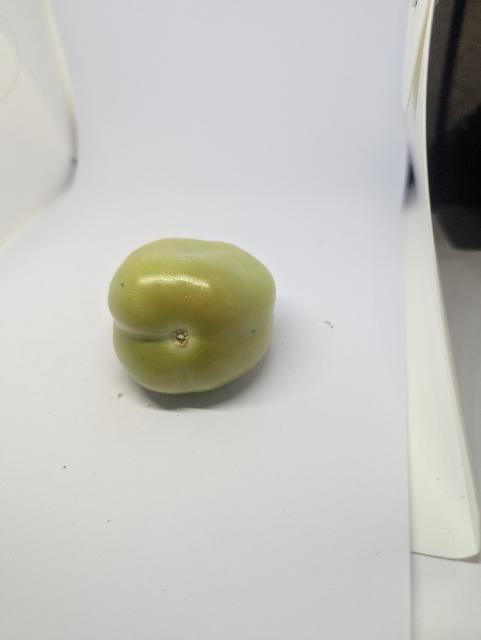green: (106, 235, 278, 396)
